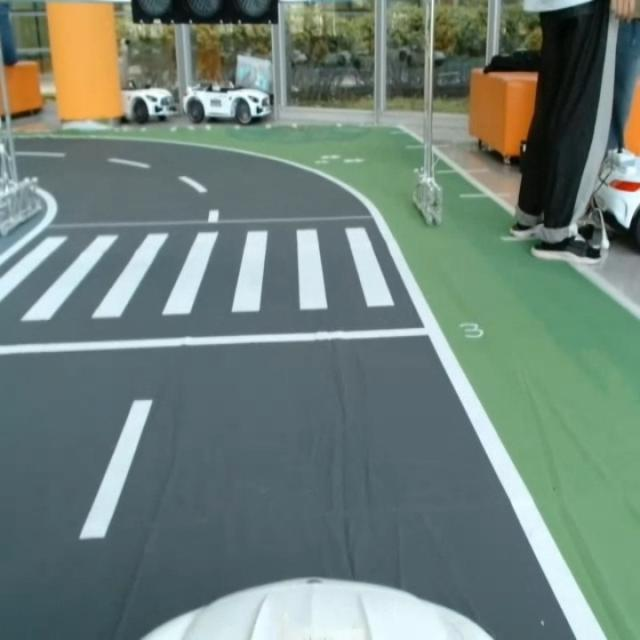traffic-light: (131, 0, 284, 28)
